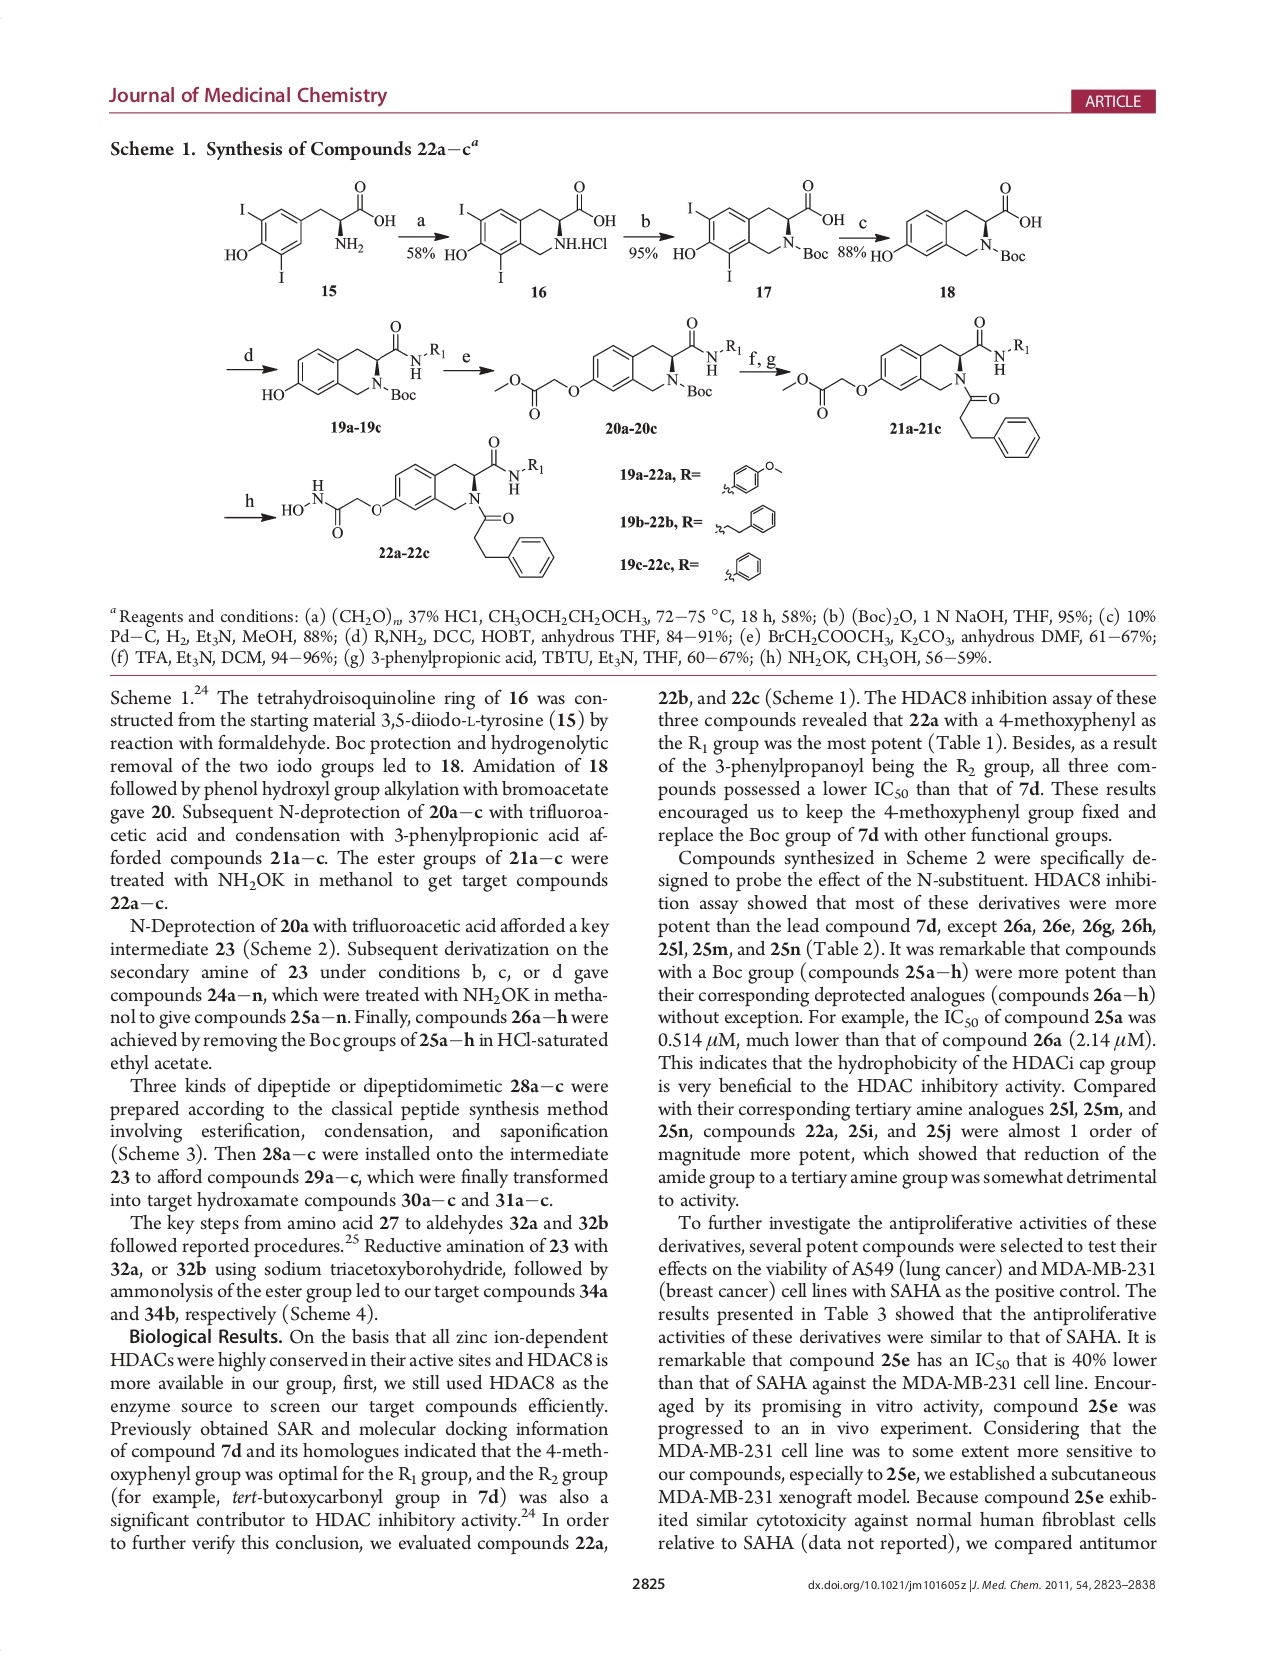exist_molecular: (278, 434, 557, 582), (781, 317, 1041, 463), (493, 315, 741, 423), (221, 180, 398, 285), (442, 180, 616, 286), (670, 177, 844, 283), (262, 319, 447, 404), (870, 181, 1043, 263), (711, 503, 779, 537), (719, 456, 782, 493), (721, 551, 763, 585)
